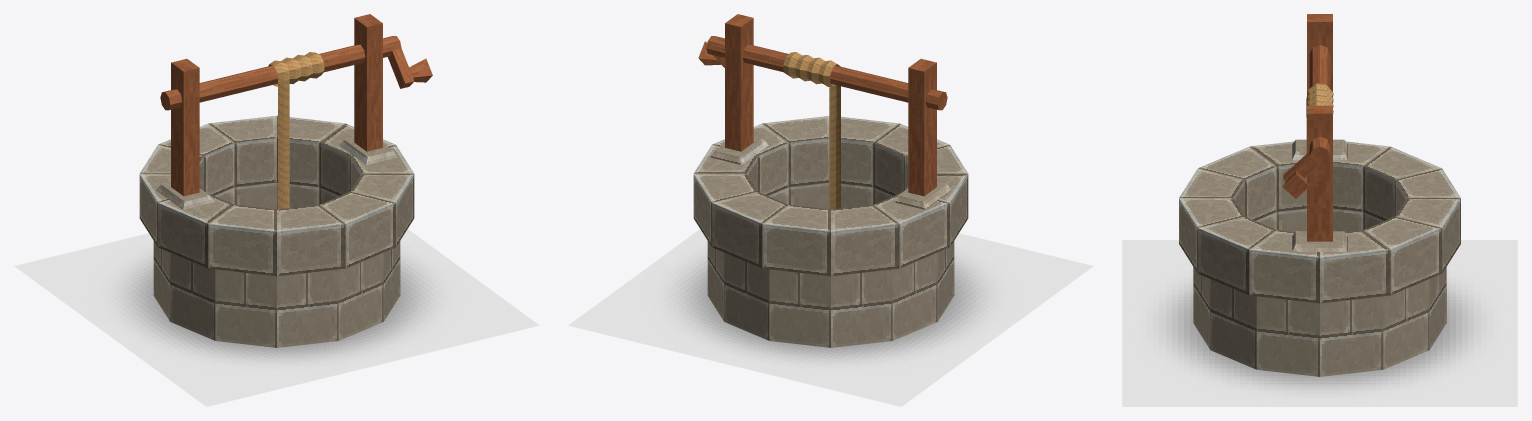
The model's file is Welll.fbx.
The picture shows the model from 3 angles, left to right: view 1: azimuth 30°, elevation 25°; view 2: azimuth 150°, elevation 25°; view 3: azimuth 270°, elevation 25°; orthographic projection. The views are drawn at different scales.
Visible parts, largest first — view 1: well, shadow1; view 2: well, shadow1; view 3: well, shadow1.
Part boxes in pixels (x1,y1,x2,y2): well: [139, 14, 432, 347]; shadow1: [14, 229, 539, 406]; well: [693, 14, 968, 347]; shadow1: [568, 229, 1093, 406]; well: [1179, 14, 1460, 376]; shadow1: [1122, 240, 1517, 406].
Bounding box in the file's own units: 1.4 × 1.03 × 1.4.
